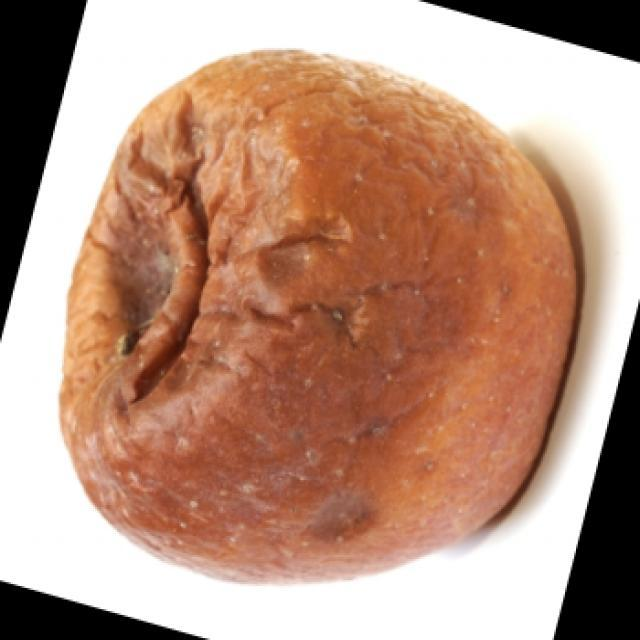Rotten: (52, 46, 568, 602)
